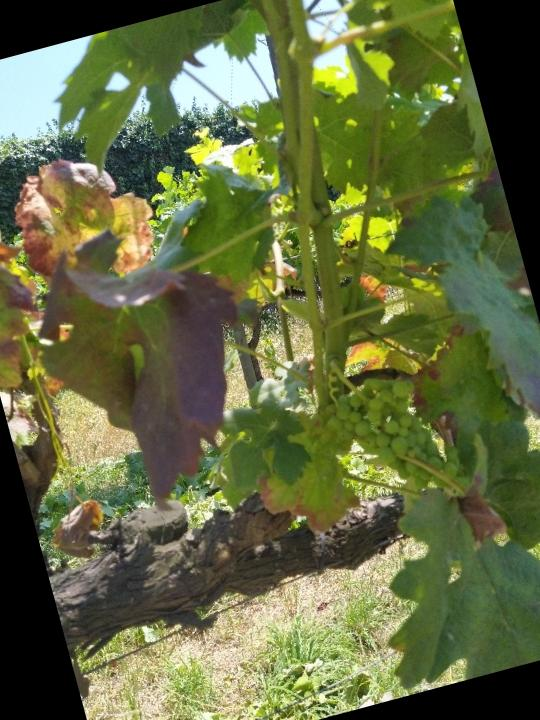grape: (310, 358, 453, 510)
